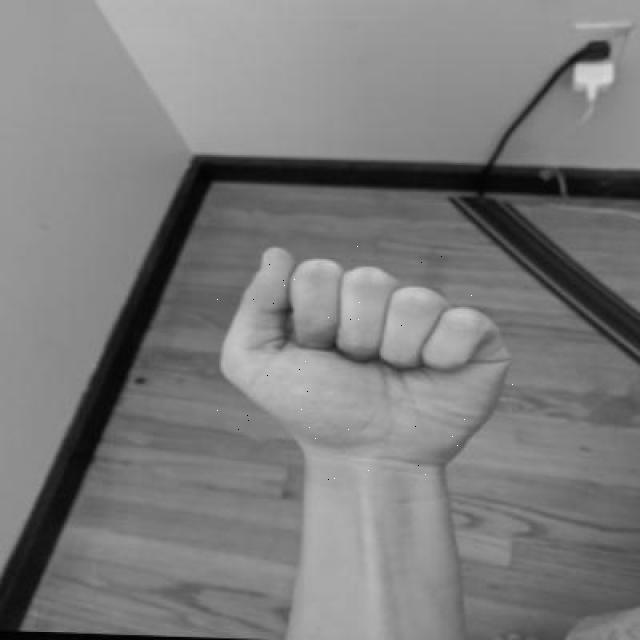A: (206, 240, 525, 482)
